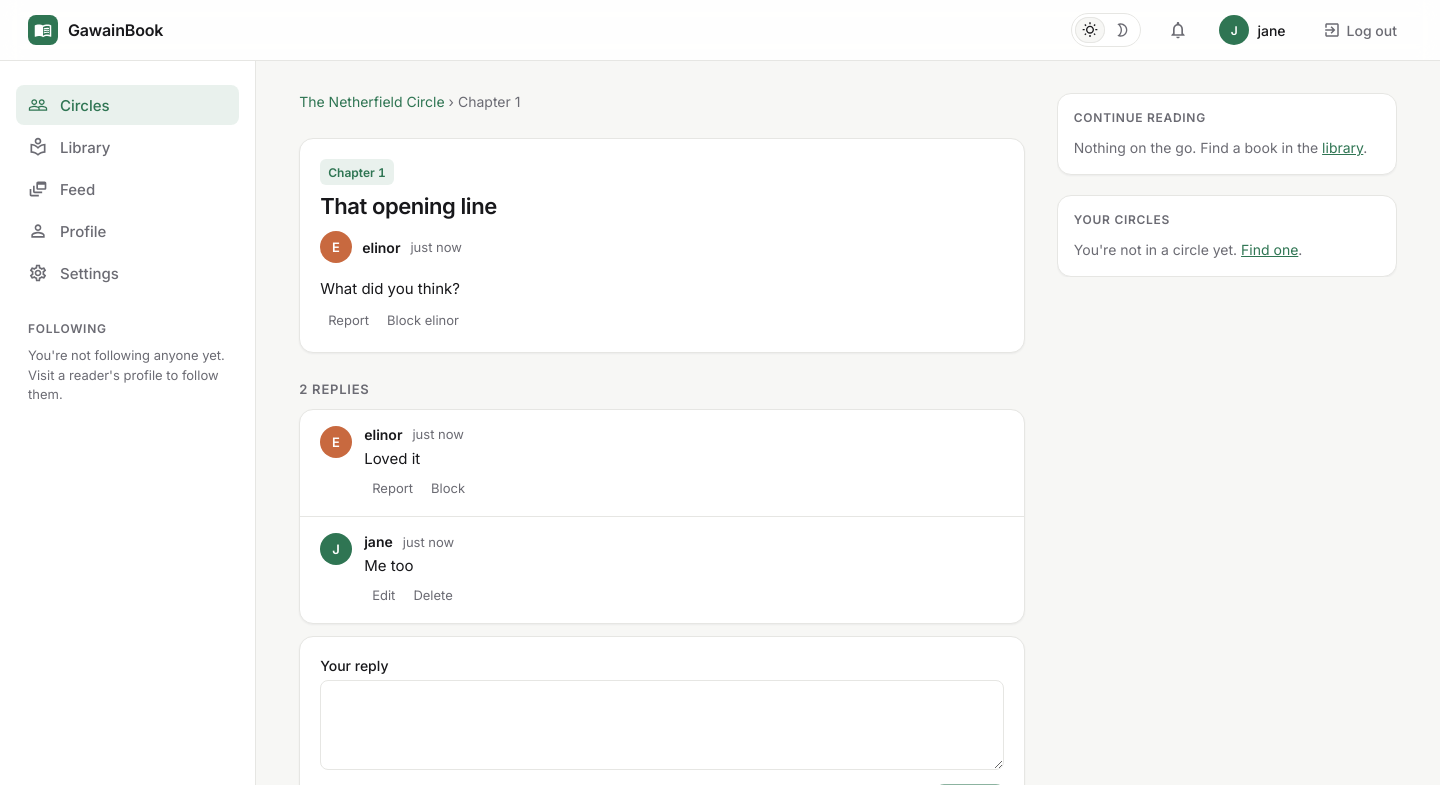
Test case: you can delete only your own replies
The image size is (1440, 785).
Expected: the heading "That opening line" is shown, [320,193,497,219]
Click the button with aria-label "Delete reply by jane".
click(433, 595)  # box [405,583,461,607]
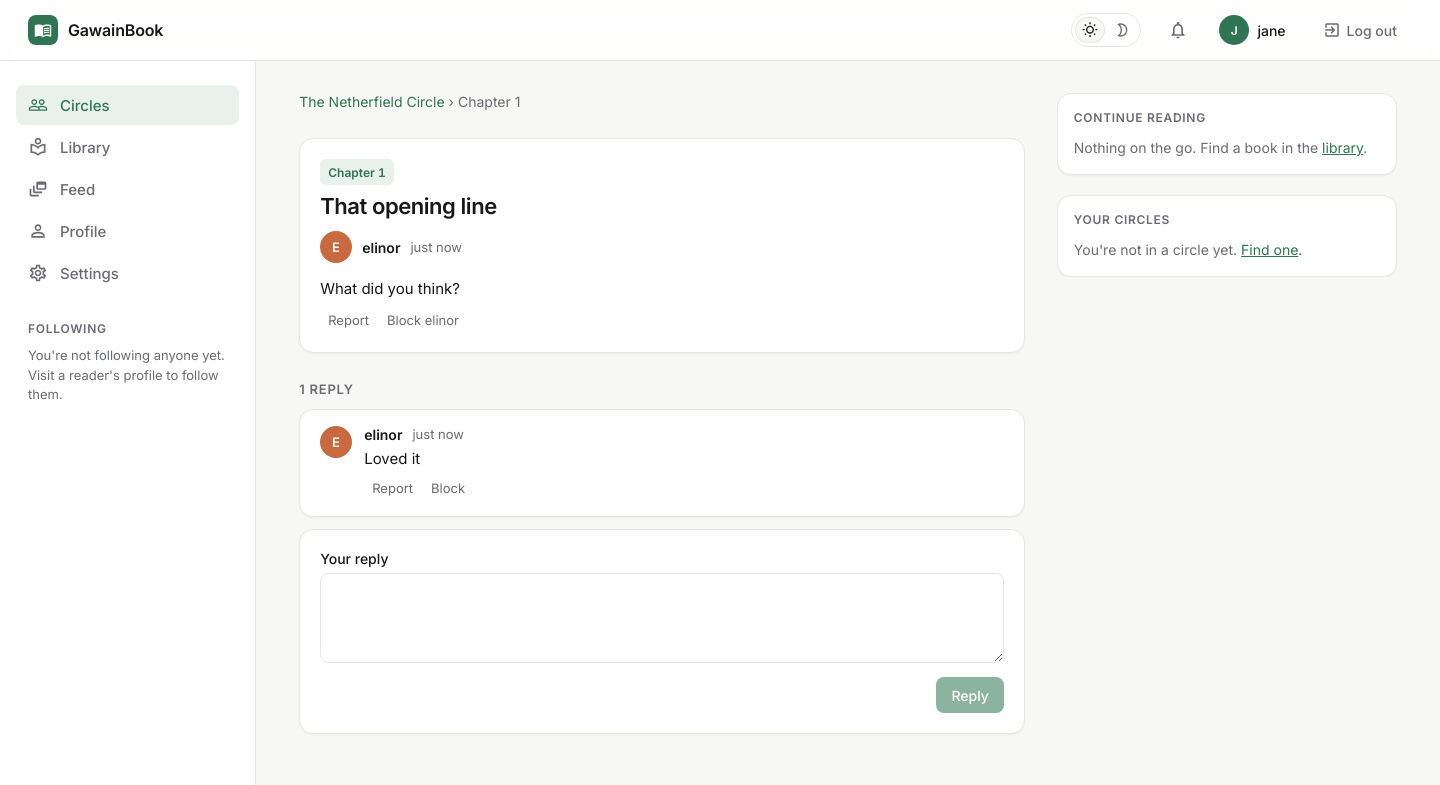
Now the text "Me too" is gone
